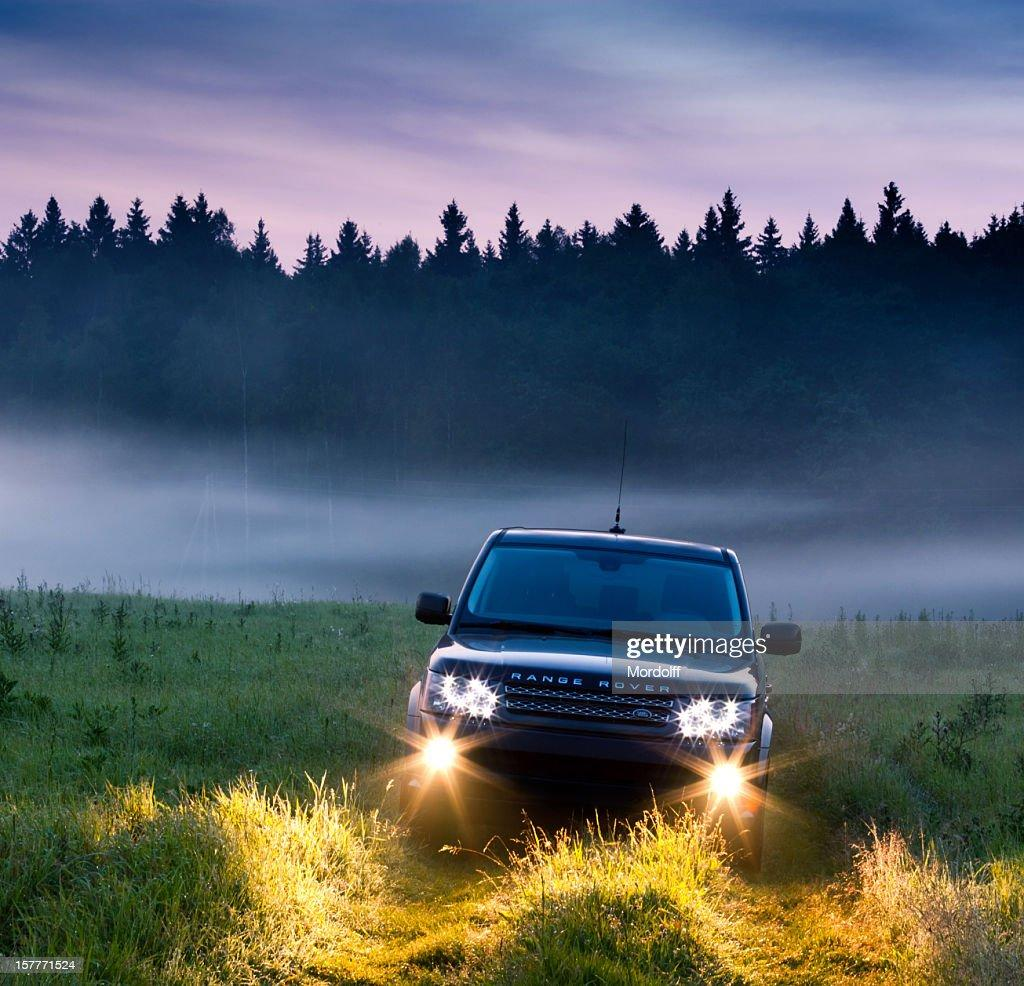range rover: (503, 665, 677, 704)
